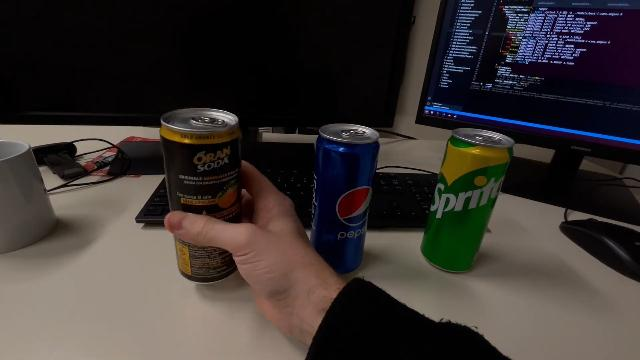OranSoda: (158, 104, 246, 286)
Pepsi: (308, 122, 380, 278)
Sprite: (418, 126, 514, 278)
